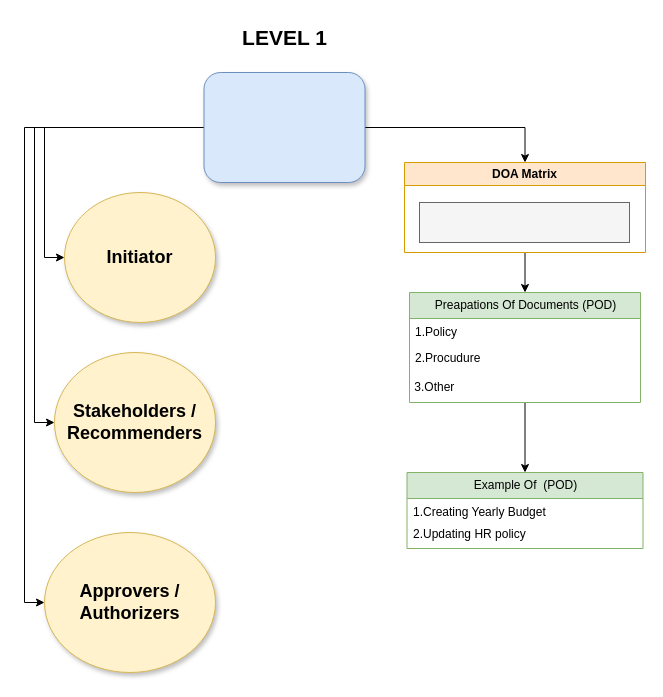
Image size: 663x697. Some labels were removed from this diagram. The shapes that lost their labels are listed below. From the top down, each one's centre as x and y in pixels, then its label:
(x=285, y=129): DOA (Delegation Of Authority)
(x=524, y=222): List of Activitys to be prepormed by Concurend Department
